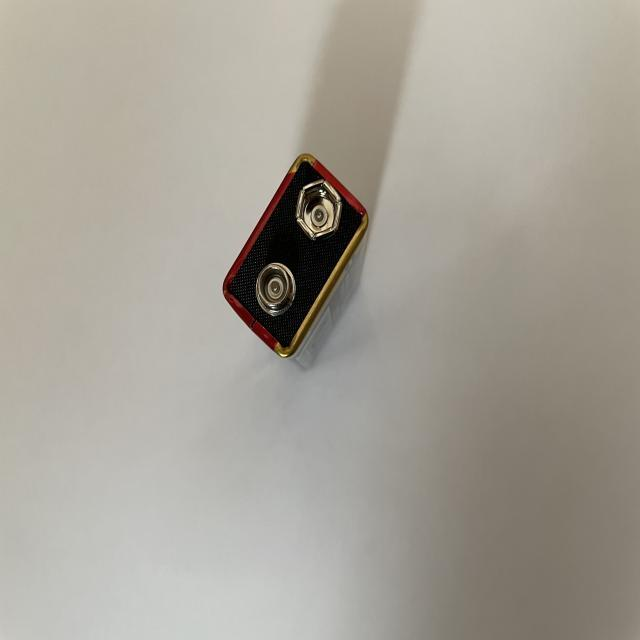9V: (223, 154, 370, 375)
